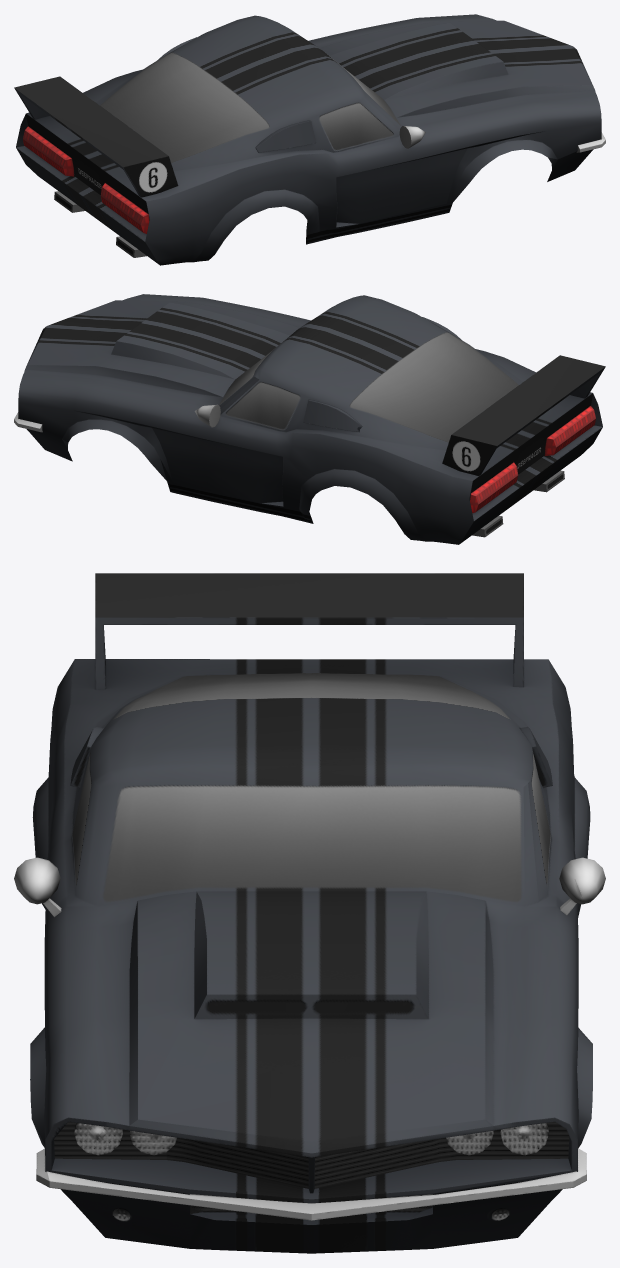
Rendered from f1_mustang_eleanor_02.dae.
3 renders of one model, top to bottom at view 1: azimuth 30°, elevation 25°; view 2: azimuth 150°, elevation 25°; view 3: azimuth 270°, elevation 25°, orthographic. The views are drawn at different scales.
Visible parts, largest first — view 1: eleanor_stripes_body001; view 2: eleanor_stripes_body001; view 3: eleanor_stripes_body001.
Part boxes in pixels (left/top/right/bottom): eleanor_stripes_body001: left=14, top=14, right=605, bottom=265; eleanor_stripes_body001: left=14, top=294, right=605, bottom=544; eleanor_stripes_body001: left=14, top=573, right=605, bottom=1253.
Size of the model in its own units: 0.3485 by 0.1784 by 0.0933.
1 material, 1 textured.
